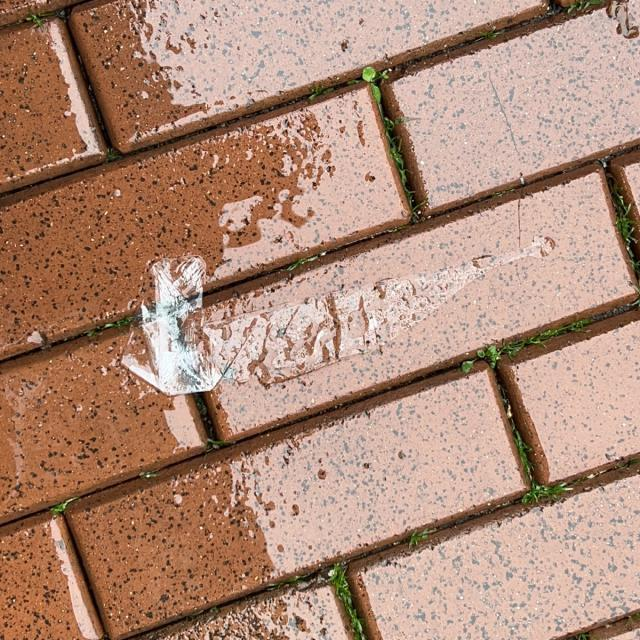Paper: (113, 234, 558, 398)
